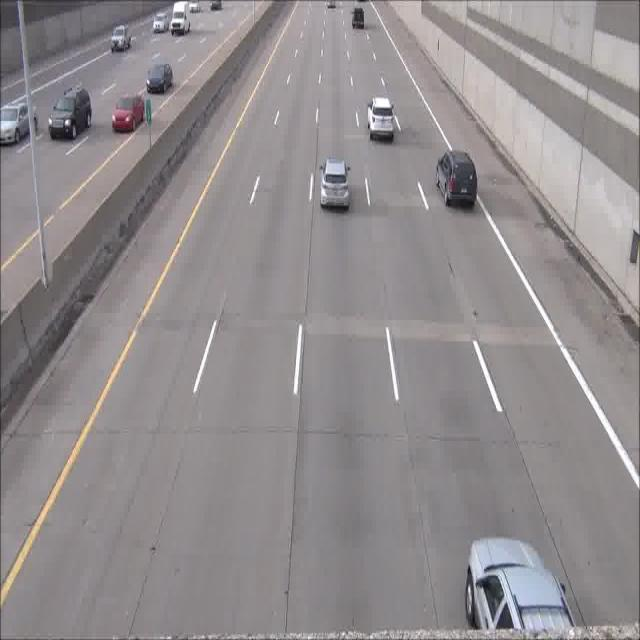Car: (456, 509, 574, 640), (432, 137, 484, 219), (48, 73, 94, 144), (314, 150, 354, 223), (0, 82, 42, 148), (361, 85, 399, 144), (111, 89, 148, 138), (144, 56, 179, 89), (108, 15, 136, 55), (349, 1, 368, 35), (150, 6, 170, 37)
Truck: (169, 0, 194, 39)
